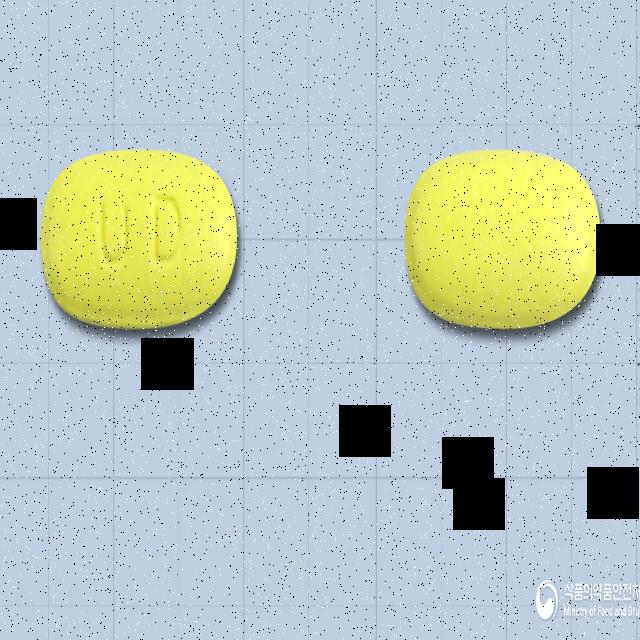Claxin - 500mg: (38, 144, 240, 335)
